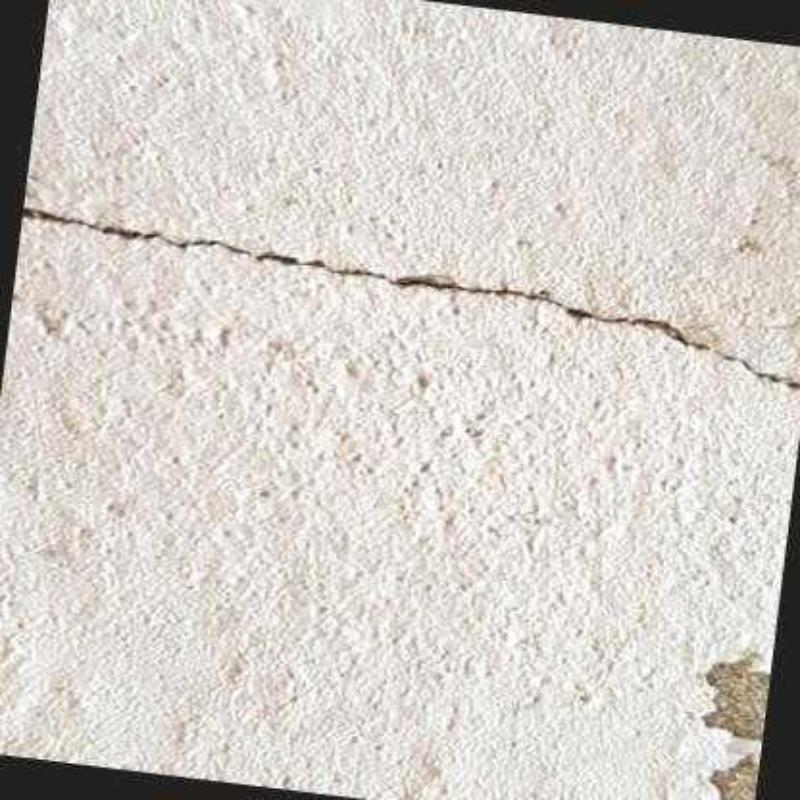crack: (20, 208, 800, 386)
